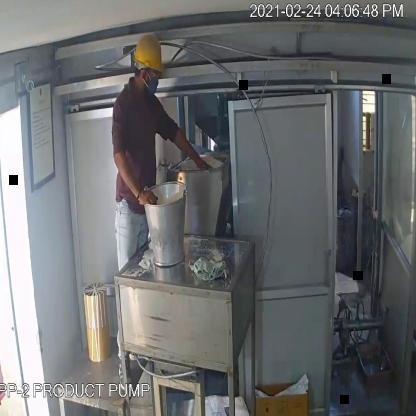helmet: (132, 31, 168, 82)
